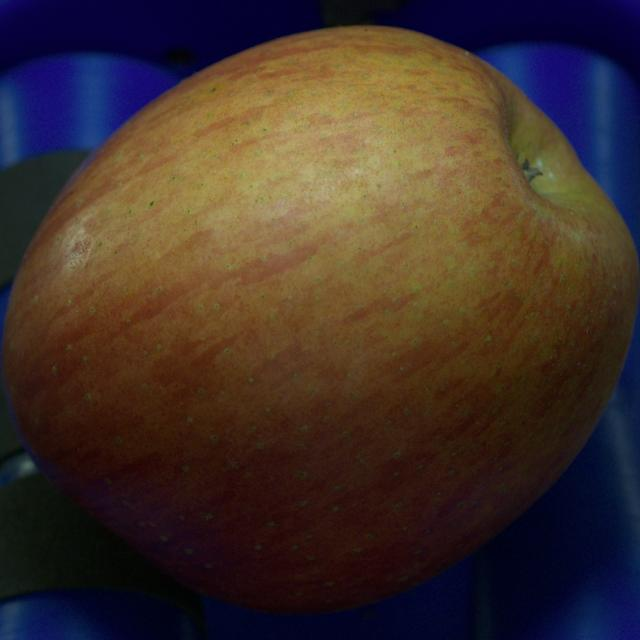apple: (4, 28, 638, 611)
